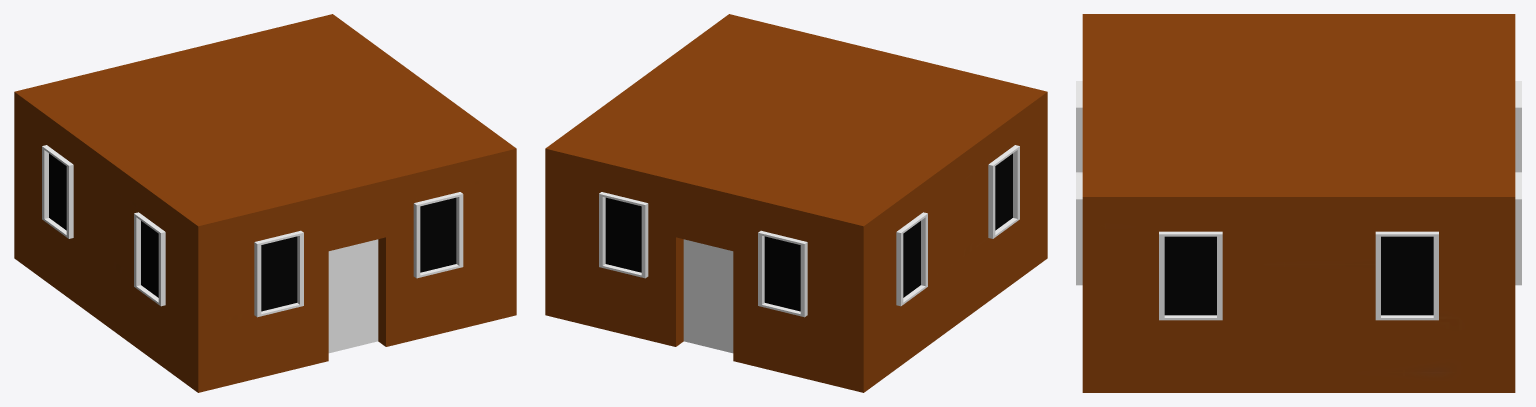
Rendered from building.003.obj.
3 views of the same model, side by side, from view 1: azimuth 30°, elevation 25°; view 2: azimuth 150°, elevation 25°; view 3: azimuth 270°, elevation 25° (orthographic). The views are drawn at different scales.
Parts seen in each view (by area): view 1: Building.003; view 2: Building.003; view 3: Building.003.
Boxes of the visible parts, box(x1,y1,x2,y2) form: Building.003: box(14, 14, 516, 392); Building.003: box(545, 14, 1047, 392); Building.003: box(1076, 14, 1521, 392).
Bounding box in the file's own units: 2.06 × 1 × 2.06.
1 material, 1 textured.
